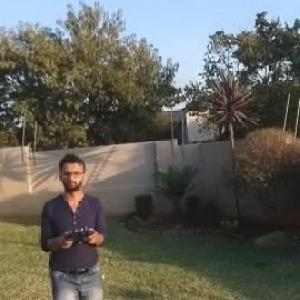follow: (36, 149, 111, 299)
